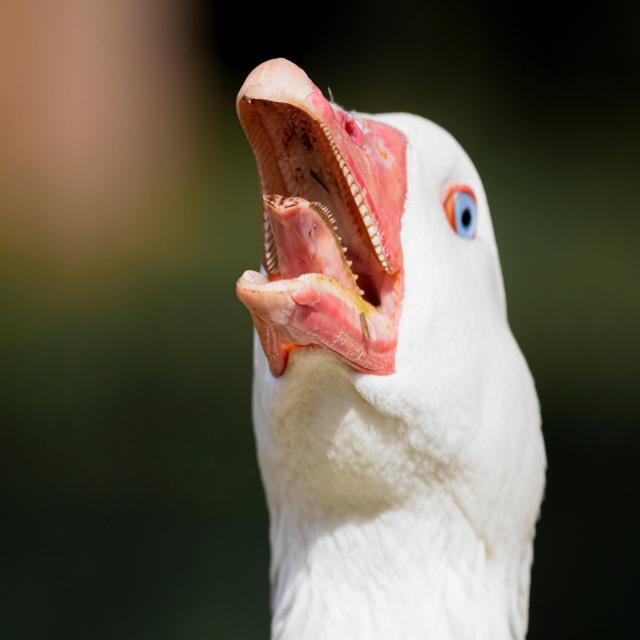Goose: (236, 40, 552, 638)
